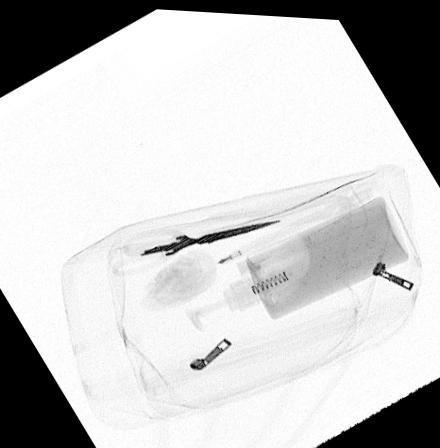Scissors: (107, 213, 287, 275)
